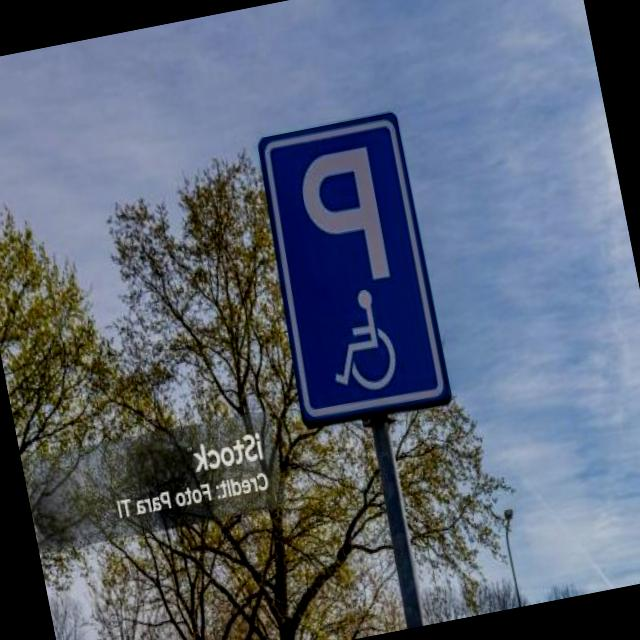symbol_of_access: (315, 279, 423, 424)
